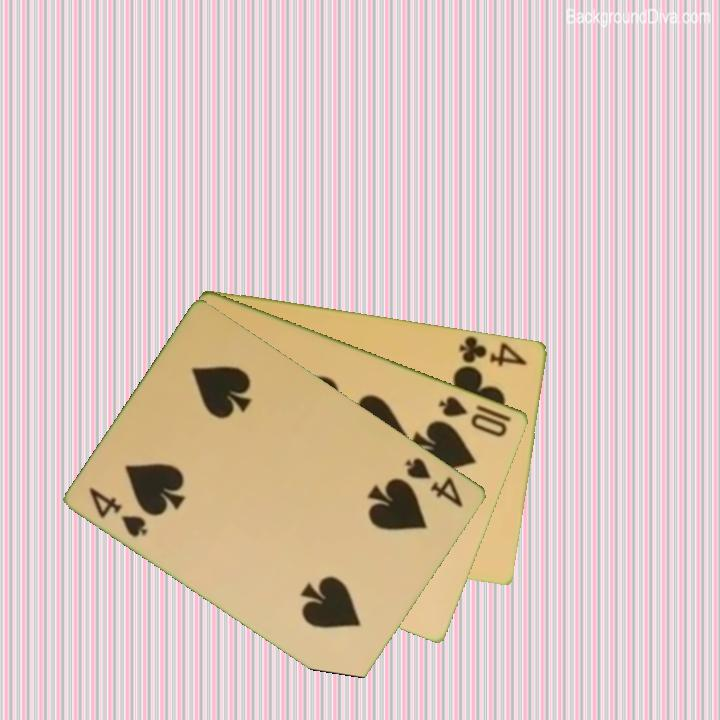10s: (435, 392, 511, 440)
4c: (456, 332, 531, 369)
4s: (86, 483, 152, 541), (402, 454, 467, 511)
